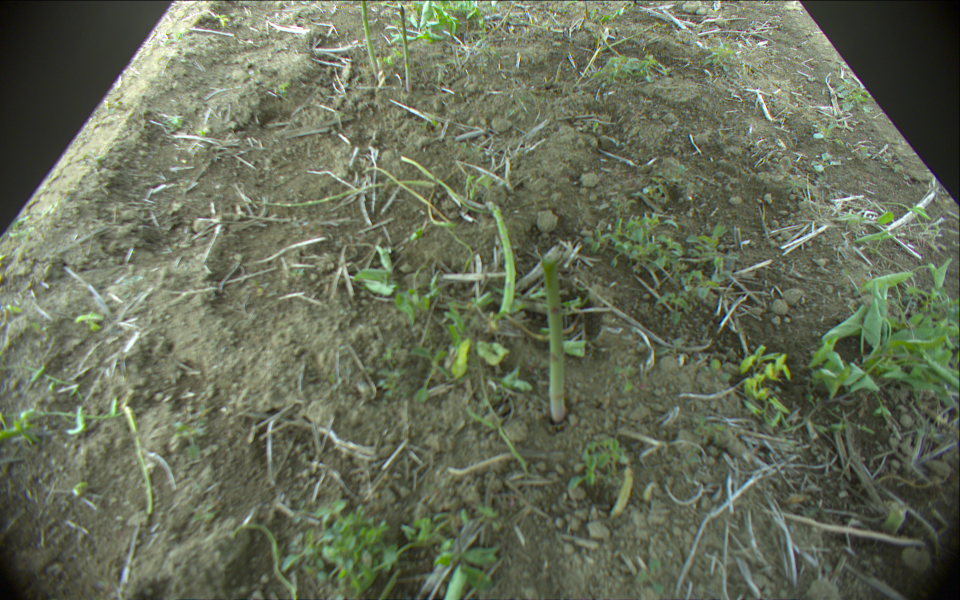aspa: (254, 179, 437, 209), (121, 403, 155, 516), (542, 255, 563, 422), (488, 203, 515, 313), (358, 1, 383, 77), (604, 464, 637, 518), (396, 5, 415, 93), (444, 564, 468, 600)
